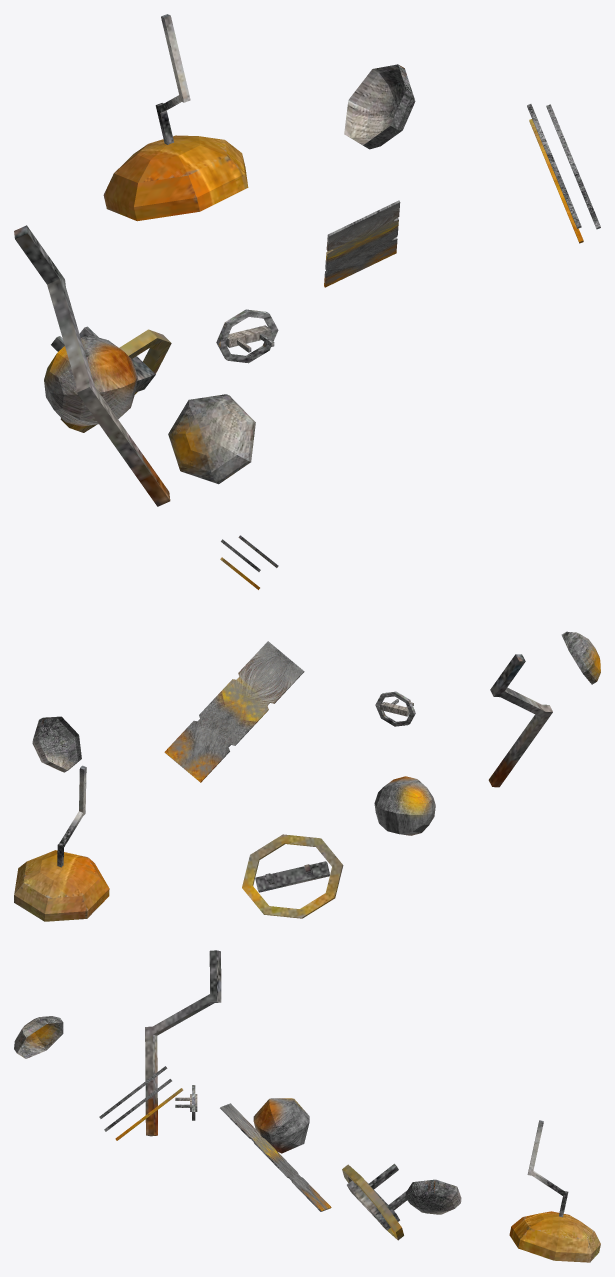
Rendered from ChatarraEspacial2.DAE.
The picture shows the model from 3 angles, top to bottom: view 1: azimuth 30°, elevation 25°; view 2: azimuth 150°, elevation 25°; view 3: azimuth 270°, elevation 25°; orthographic projection. The views are drawn at different scales.
Visible parts, largest first — view 1: chatarraEspacial2; view 2: chatarraEspacial2; view 3: chatarraEspacial2.
Part boxes in pixels (x1=…): chatarraEspacial2: x1=14, y1=14, x2=600, y2=506; chatarraEspacial2: x1=14, y1=535, x2=600, y2=921; chatarraEspacial2: x1=14, y1=950, x2=600, y2=1262.
Bounding box in the file's own units: 21.98 × 31.49 × 14.43.
1 material, 1 textured.
